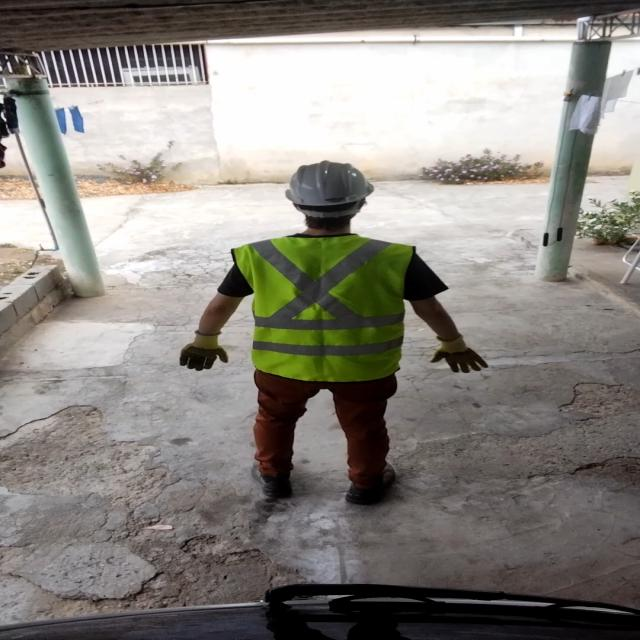glove: (430, 332, 493, 378), (178, 327, 235, 374)
helmet: (276, 157, 379, 216)
pants: (252, 366, 397, 476)
vest: (243, 236, 422, 372)
